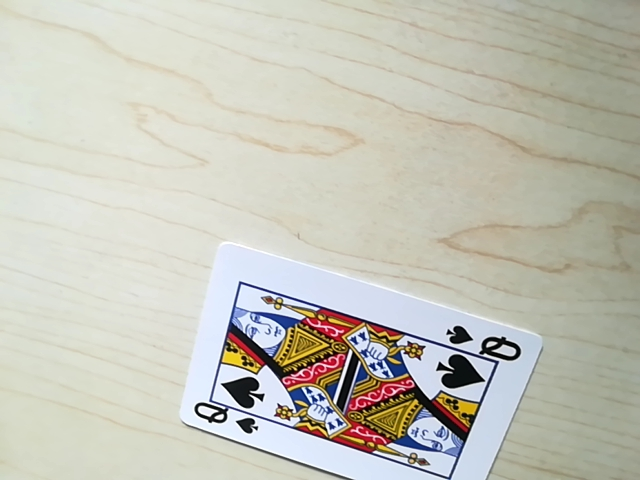ht q: (447, 327, 525, 361), (189, 401, 261, 436)
